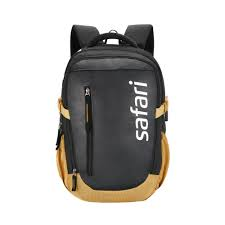backpack: (55, 23, 170, 202)
